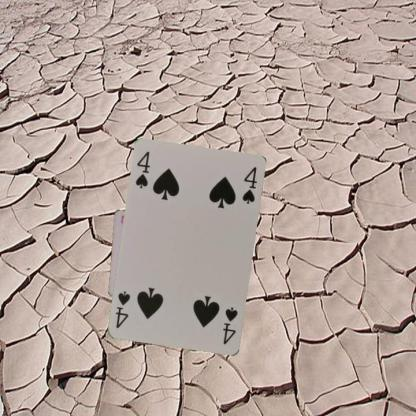4s: (220, 305, 239, 346), (133, 149, 152, 190)
